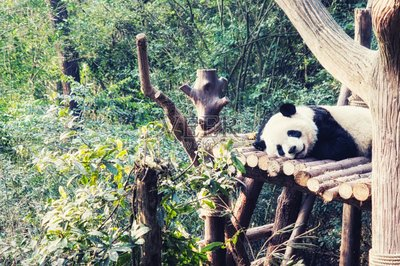panda: (248, 91, 384, 168)
